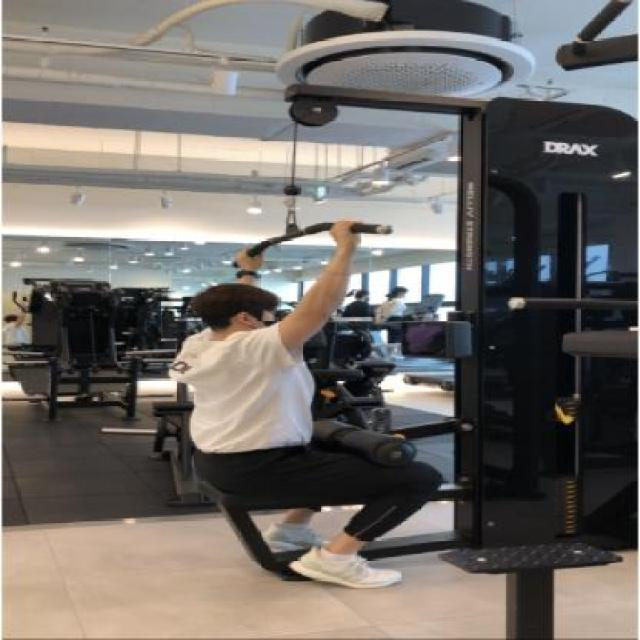Lat Pull Down: (154, 69, 640, 640)
